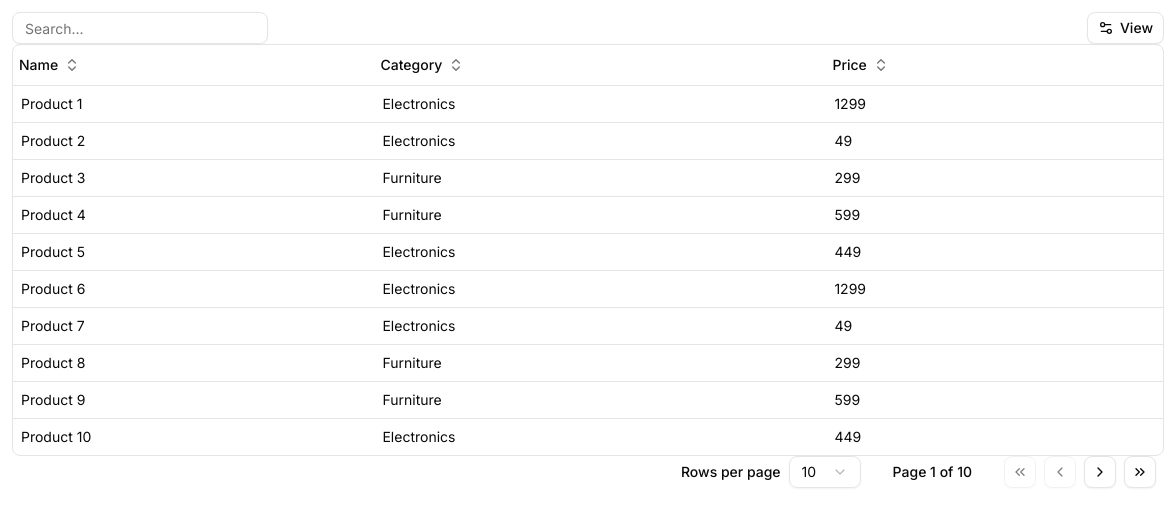
Test: DataTable pagination › supports server-side pagination with controlled state
The image size is (1176, 508).
Expected: the text "Page 1 of 10" is shown, [893,462,972,482]
Step 1. Click the button named "Go to next page" → (1100, 472), box [1084,456,1116,488]
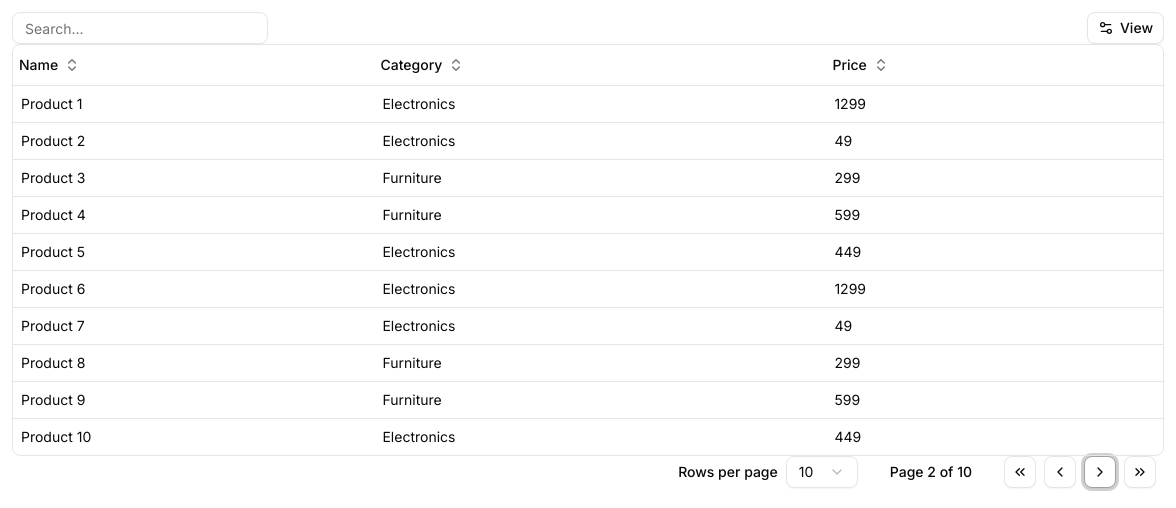
Now the text "Page 2 of 10" is shown, box [890,462,972,482]
